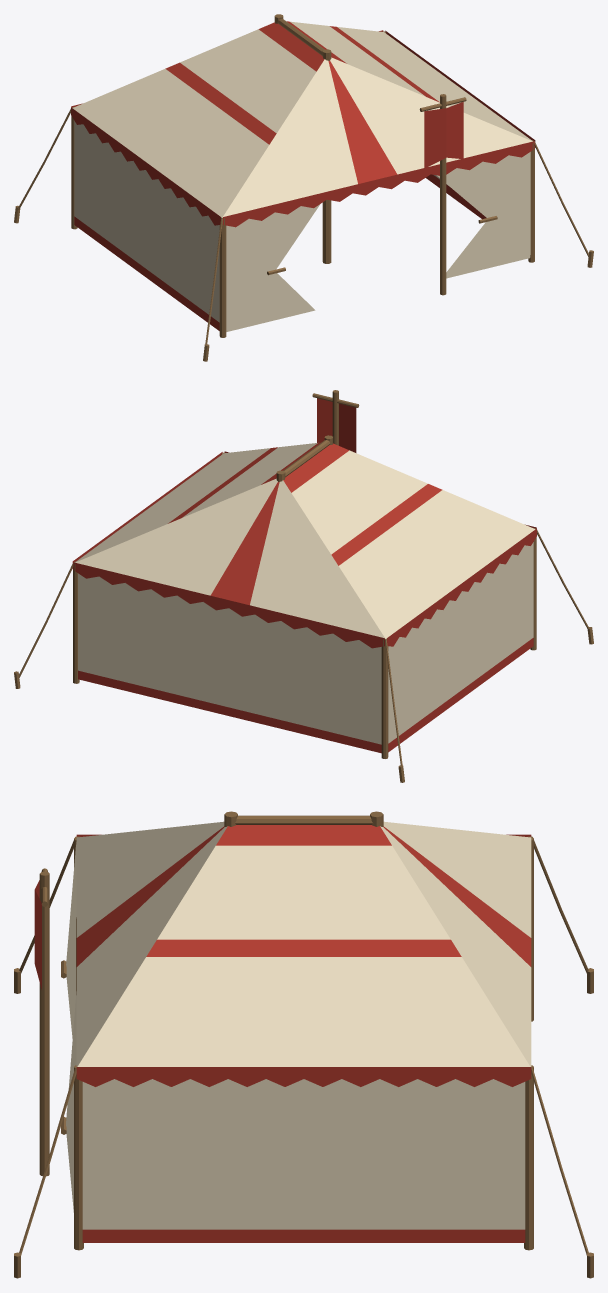
File: tent_command.glb
3 renders of one model, top to bottom at view 1: azimuth 30°, elevation 25°; view 2: azimuth 150°, elevation 25°; view 3: azimuth 270°, elevation 25°, orthographic. The views are drawn at different scales.
Parts seen in each view (by area): view 1: tent_command; view 2: tent_command; view 3: tent_command.
Boxes of the visible parts, x1,y1,x2,y2 form: tent_command: [14, 14, 593, 361]; tent_command: [14, 390, 593, 782]; tent_command: [14, 811, 593, 1278].
Bounding box in the file's own units: 7.52 × 3.89 × 6.38.
